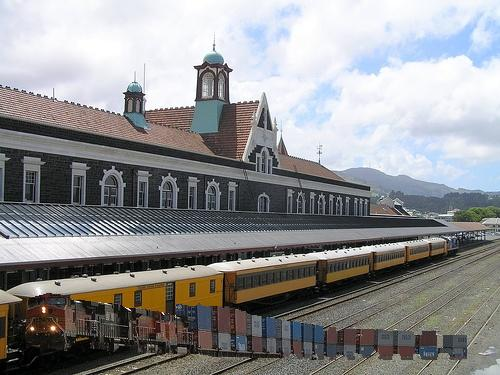tampered: (26, 294, 467, 360)
